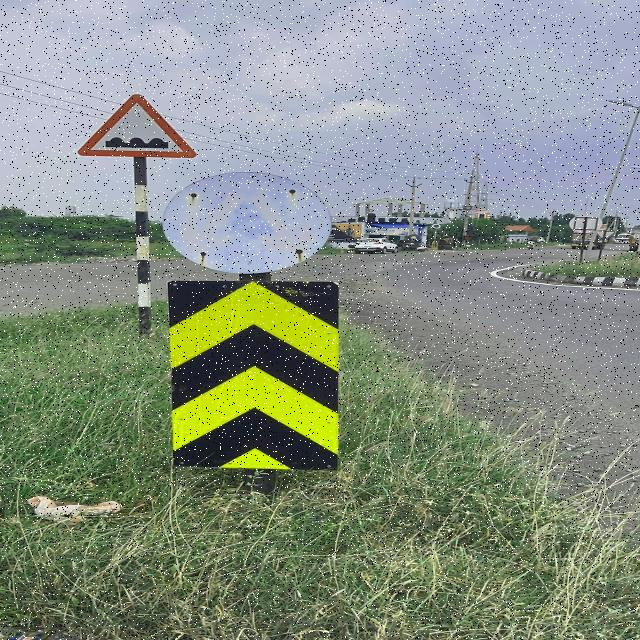Rumble_strip: (81, 89, 206, 164)
Twoway_hazardmarker: (161, 274, 346, 476)
vehicles_may_pass_either: (161, 174, 348, 274)
